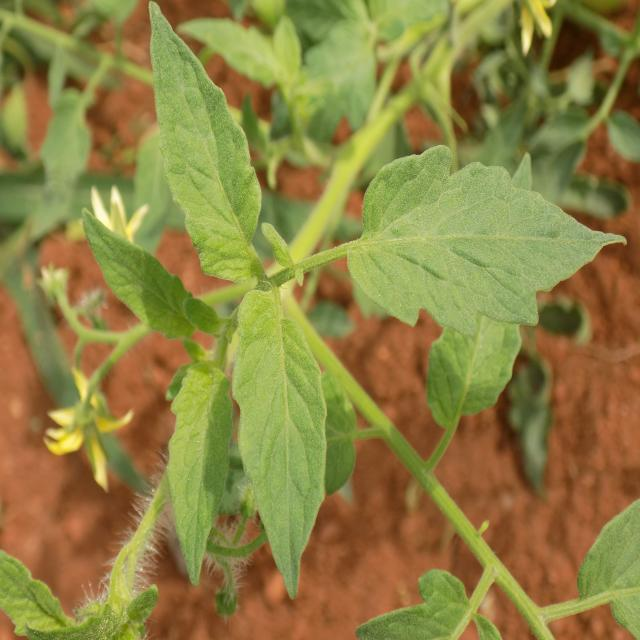tomato_healthy: (339, 140, 627, 340), (146, 3, 278, 280), (229, 292, 328, 601)
